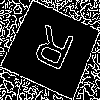R: (26, 24, 77, 81)
